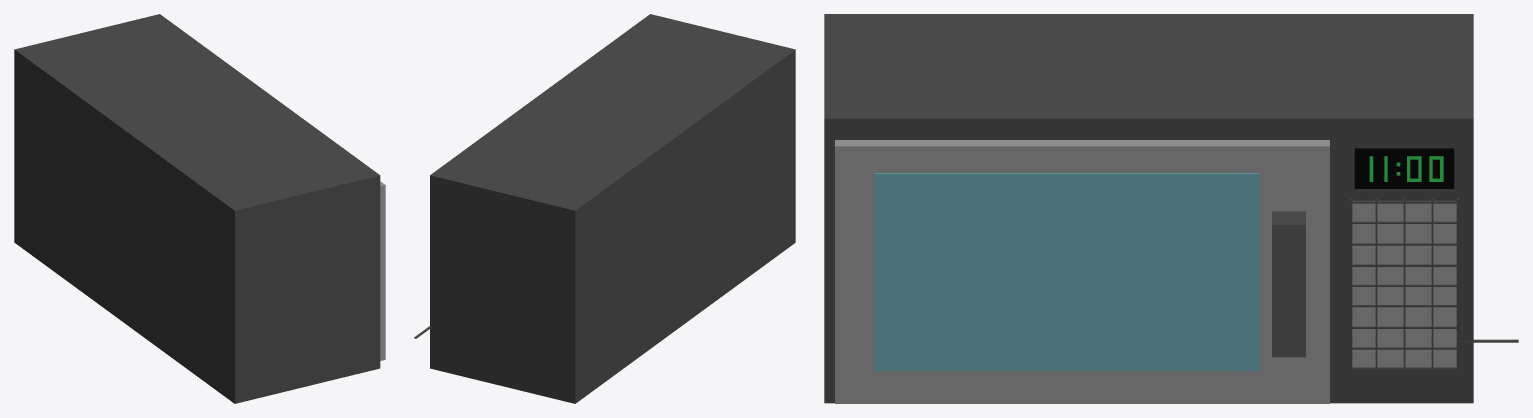
The model's file is microwave.fbx.
3 views of the same model, side by side, from view 1: azimuth 30°, elevation 25°; view 2: azimuth 150°, elevation 25°; view 3: azimuth 270°, elevation 25° (orthographic). The views are drawn at different scales.
Parts seen in each view (by area): view 1: Cube; view 2: Cube; view 3: Cube.
Part boxes in pixels (x1,y1,x2,y2): Cube: (14,14,385,403); Cube: (430,14,795,403); Cube: (824,14,1473,403).
Size of the model in its own units: 259 by 254 by 561.
